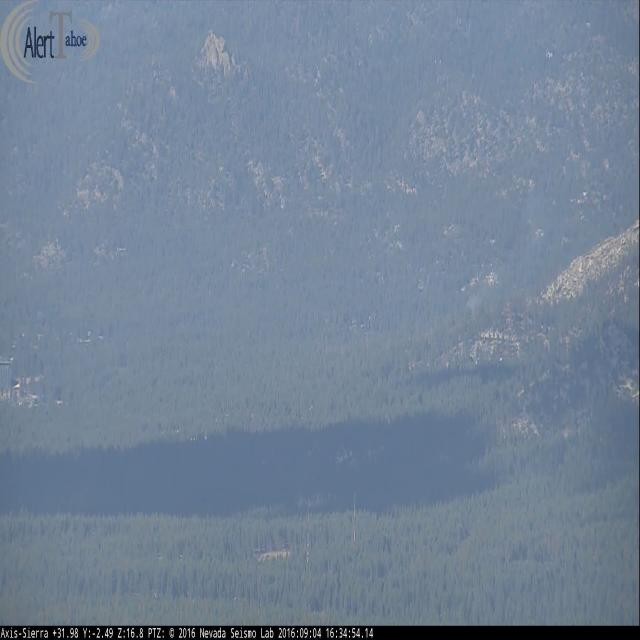smoke: (462, 277, 494, 314)
